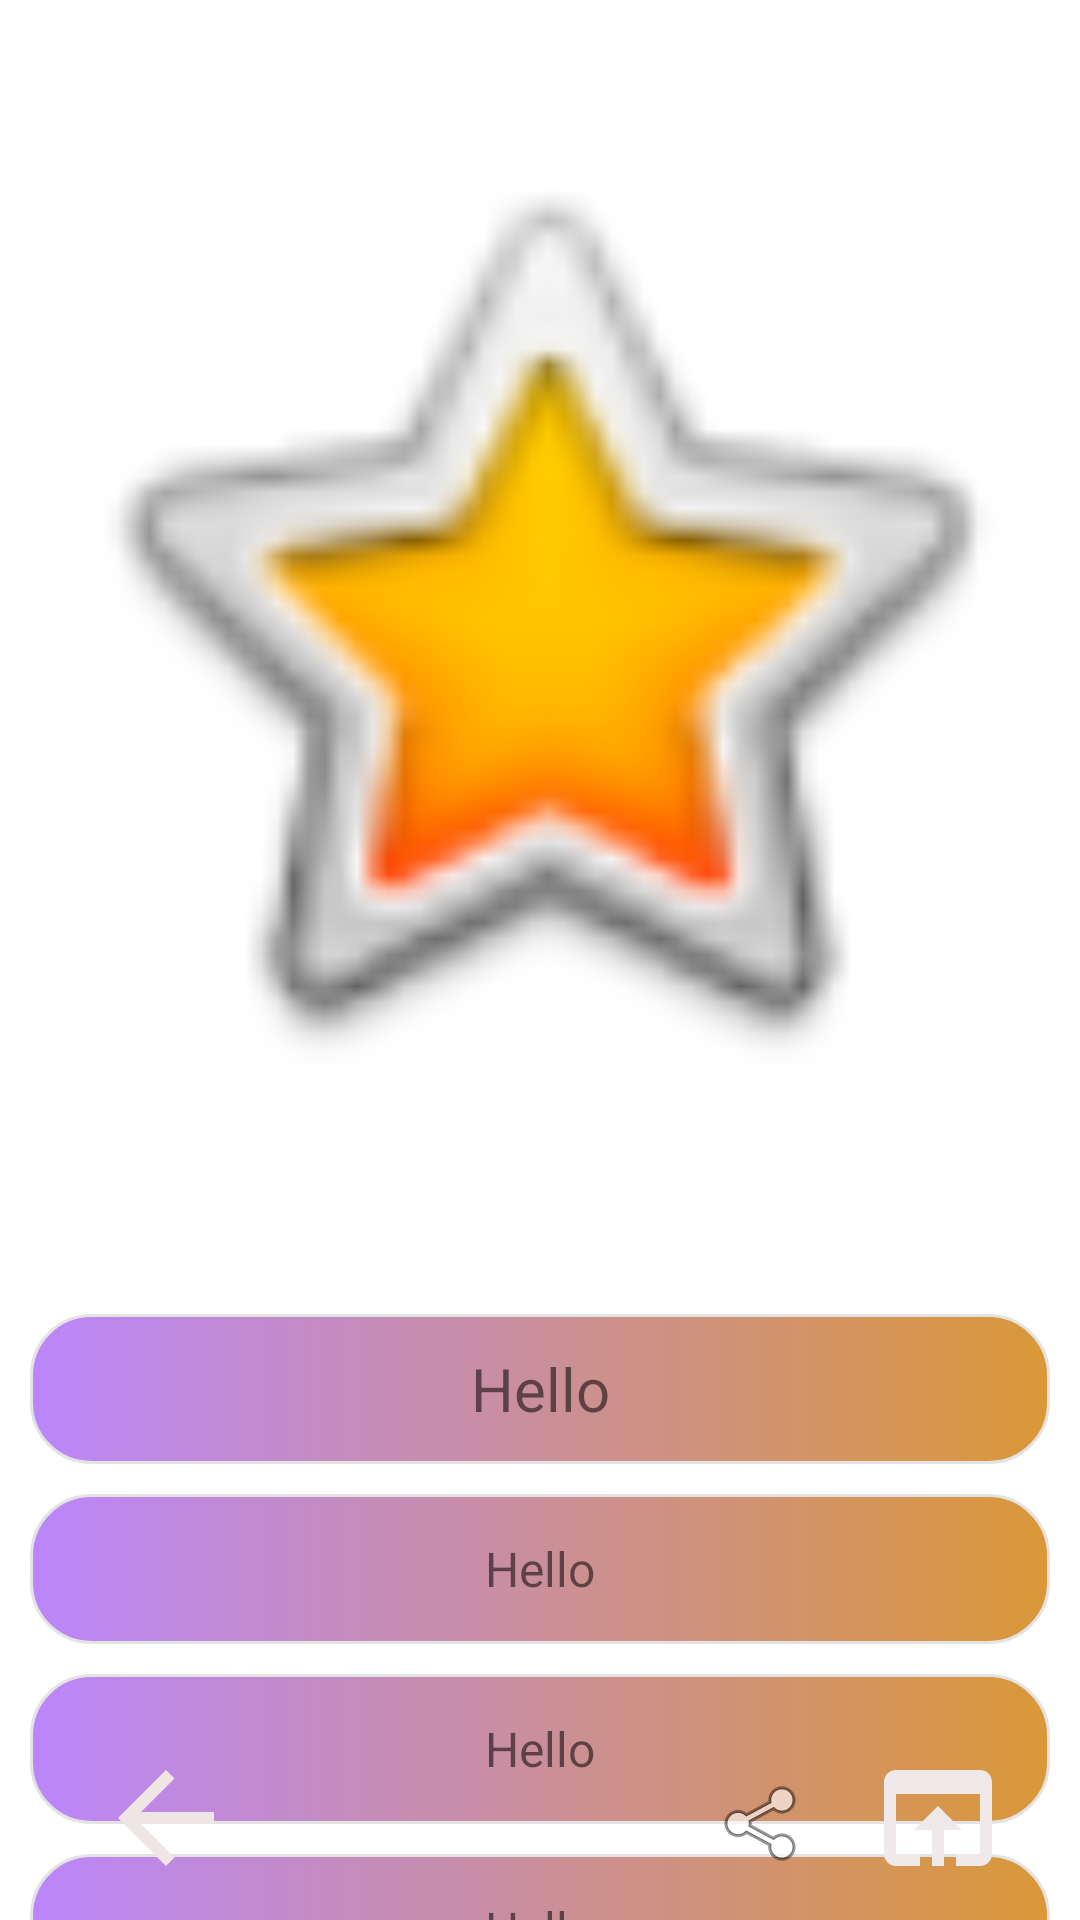

Icons on this 1080px×1920px Android screen, each with its box as [x1,y1,x2,y2]:
arrow back: [94,1746,238,1890]
open in browser: [866,1746,1010,1890]
share: [717,1786,813,1861]
